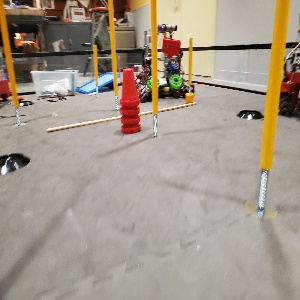Red_4: (117, 64, 152, 149)
